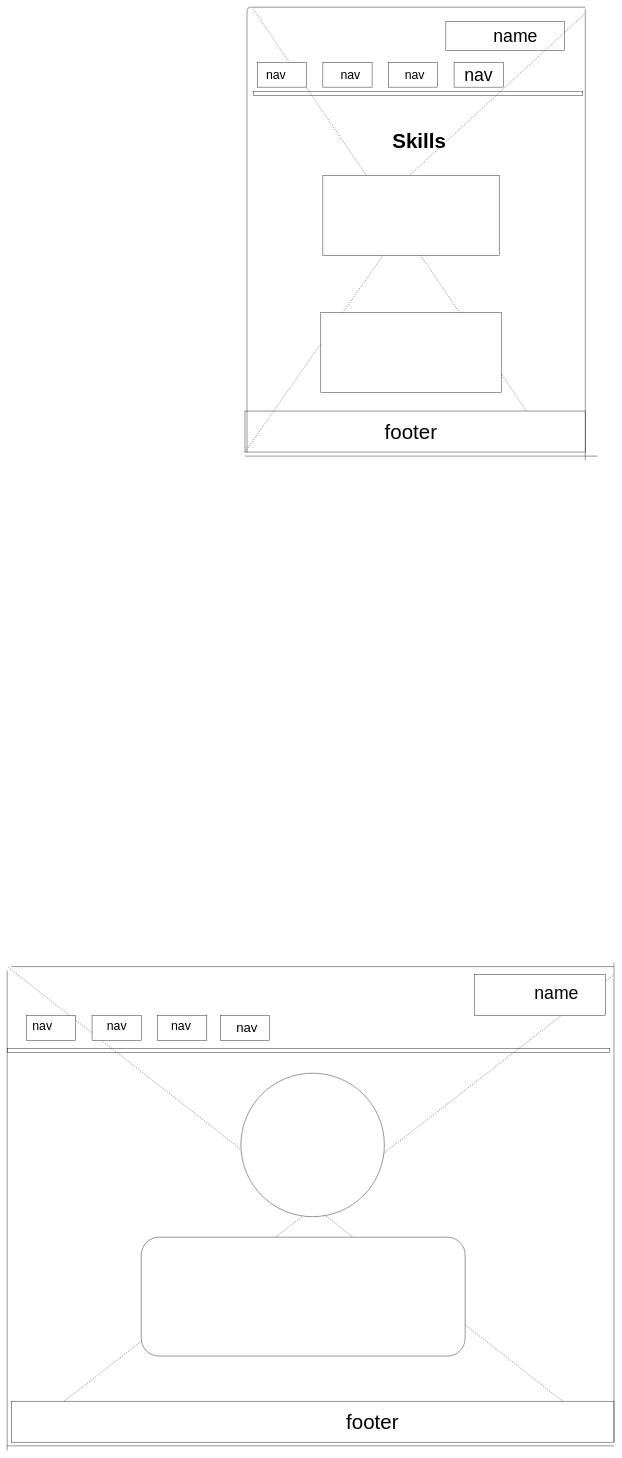
The diagram is 622 pixels wide and 1458 high, and some of its shapes have lost their labels. The centre of each missing label's shape, as x and y in pixels:
"about" goes at point (303, 1296).
"Advanced" goes at point (410, 352).
"Beginner" goes at point (410, 215).
"img" goes at point (312, 1145).
